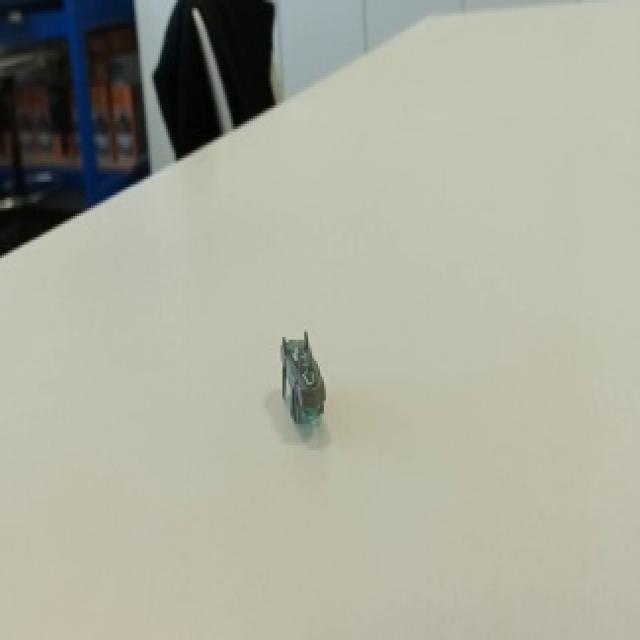5_NanoBug_GrisClaro: (256, 308, 356, 444)
